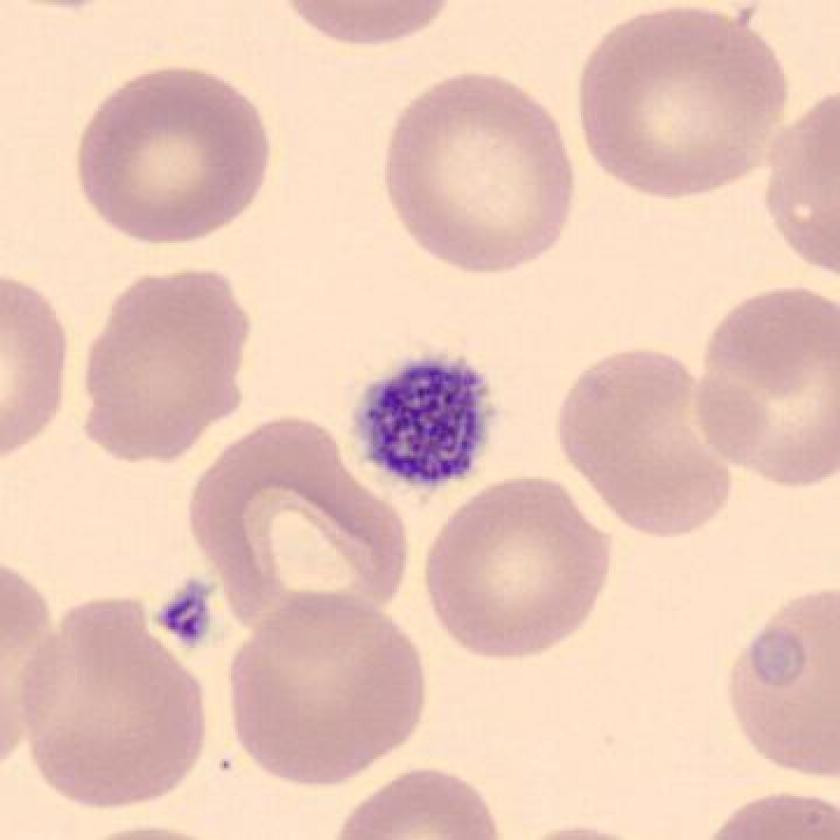platelets: (349, 344, 500, 492), (148, 573, 232, 658)
